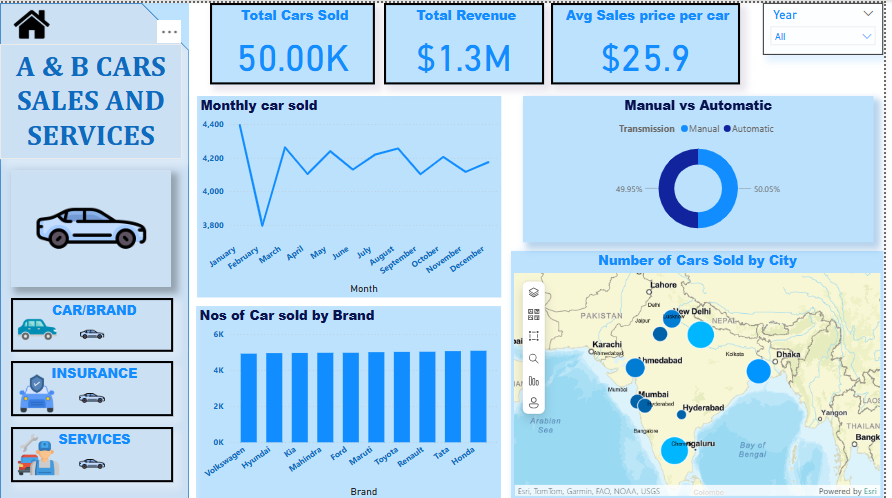

What the dashboard file says about the page in this screenshot:
{"tool":"powerbi","page":{"name":"OVERVIEW","canvas":[1280,720],"ordinal":1},"visuals":[{"type":"card","title":"Total Cars Sold","fields":{"Values":["Count(public cars_master_data_sql.Car_ID)"]},"box":[304.5,0,239.4,118.2],"z":0},{"type":"clusteredColumnChart","title":"Nos of Car sold  by Brand","fields":{"Category":["public cars_master_data_sql.Brand"],"Y":["Count(public cars_master_data_sql.Car_ID)"]},"box":[284.6,438.5,441.5,281.5],"z":1000},{"type":"lineChart","title":"Monthly car sold","fields":{"Category":["public cars_master_data_sql.Sale_Date.Variation.Date Hierarchy.Month"],"Y":["CountNonNull(public cars_master_data_sql.Car_ID)"]},"box":[284.8,134.8,440.9,292.4],"z":2000},{"type":"card","title":"Total Revenue","fields":{"Values":["Sum(public cars_master_data_sql.Sale_Price_Lakh)"]},"box":[556.1,0,231.8,118.2],"z":3000},{"type":"shape","box":[0,0,274.2,719.7],"z":4000},{"type":"textbox","box":[0,59.4,263.8,166.7],"z":5000},{"type":"image","title":"CAR/BRAND","box":[15.4,427.7,235.4,78.5],"z":6000},{"type":"card","title":"Avg Sales price per car","fields":{"Values":["Avg(public cars_master_data_sql.Sale_Price_Lakh)"]},"box":[798.5,0,273.8,118.5],"z":7000},{"type":"slicer","fields":{"Values":["public cars_master_data_sql.Sale_Date.Variation.Date Hierarchy.Year"]},"box":[1106.3,0,174.1,74.6],"z":8000},{"type":"esriVisual","title":"Number of Cars Sold by City","fields":{"Color":["public cars_master_data_sql.Car_ID"],"Location":["public cars_master_data_sql.City"],"Size":["public cars_master_data_sql.Car_ID"]},"box":[740,360,540,360],"z":9000},{"type":"image","title":"INSURANCE","box":[15.4,518.5,235.4,80],"z":10000},{"type":"image","title":"SERVICES","box":[15.4,613.8,235.4,80],"z":11000},{"type":"image","box":[15.4,533.8,75.4,64.6],"z":12000},{"type":"image","box":[15.4,438.5,76.9,67.7],"z":13000},{"type":"image","box":[18.5,613.8,73.8,80],"z":14000},{"type":"donutChart","title":"Manual vs Automatic","fields":{"Y":["CountNonNull(public cars_master_data_sql.Car_ID)"],"Category":["public cars_master_data_sql.Transmission"]},"box":[758.5,135.4,507.7,212.3],"z":15000},{"type":"image","box":[15.4,241.5,232.3,169.2],"z":16000},{"type":"image","box":[0,0,91.3,62.3],"z":18000}]}

Visuals, with their boxes in screenshot pixels (x1, y1, x2, y2), scaled from the page's 1280x720 canvas onto the 892x498 screenshot:
"Total Cars Sold" card: box=[212, 0, 379, 82]
"Nos of Car sold  by Brand" clusteredColumnChart: box=[198, 303, 506, 497]
"Monthly car sold" lineChart: box=[198, 93, 506, 295]
"Total Revenue" card: box=[388, 0, 549, 82]
shape: box=[0, 0, 191, 497]
textbox: box=[0, 41, 184, 156]
"CAR/BRAND" image: box=[11, 296, 175, 350]
"Avg Sales price per car" card: box=[556, 0, 747, 82]
slicer - public cars_master_data_sql.Sale_Date.Variation.Date Hierarchy.Year: box=[771, 0, 891, 52]
"Number of Cars Sold by City" esriVisual: box=[516, 249, 891, 497]
"INSURANCE" image: box=[11, 359, 175, 414]
"SERVICES" image: box=[11, 425, 175, 480]
image: box=[11, 369, 63, 414]
image: box=[11, 303, 64, 350]
image: box=[13, 425, 64, 480]
"Manual vs Automatic" donutChart: box=[529, 94, 882, 240]
image: box=[11, 167, 173, 284]
image: box=[0, 0, 64, 43]
